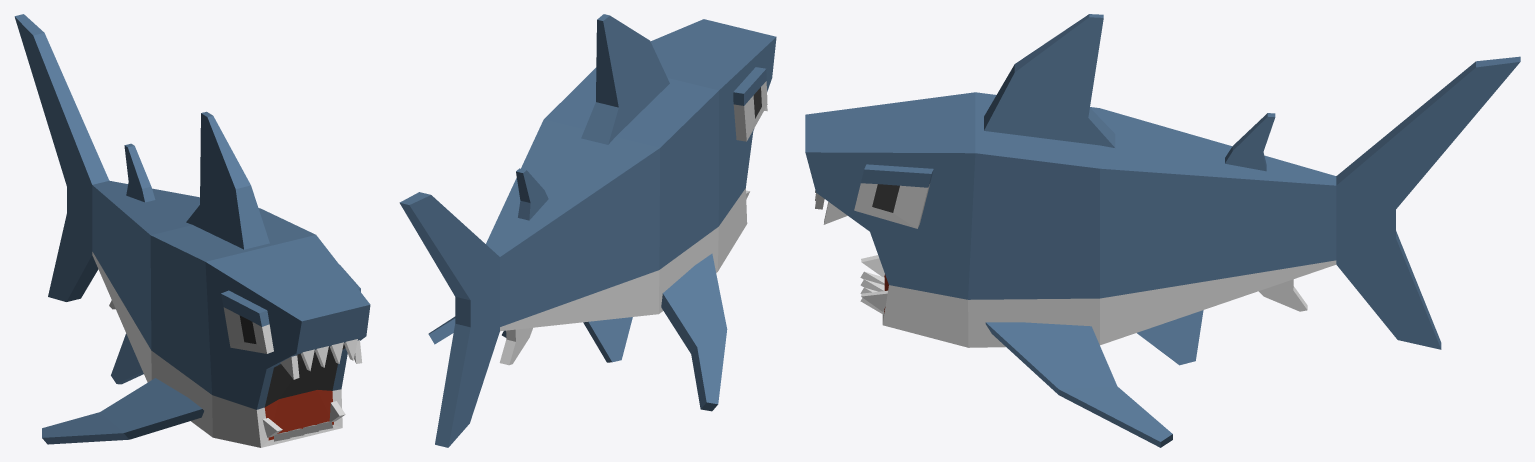
Rendered from eat_frame_1.fbx.
The picture shows the model from 3 angles, left to right: view 1: azimuth 30°, elevation 25°; view 2: azimuth 150°, elevation 25°; view 3: azimuth 270°, elevation 25°; orthographic projection. The views are drawn at different scales.
Visible parts, largest first — view 1: Cube.036; view 2: Cube.036; view 3: Cube.036.
Boxes of the visible parts, left/top/right/bottom form: Cube.036: left=14, top=14, right=370, bottom=447; Cube.036: left=399, top=14, right=776, bottom=447; Cube.036: left=805, top=14, right=1520, bottom=447.
Size of the model in its own units: 4.6 by 5.13 by 9.23.
